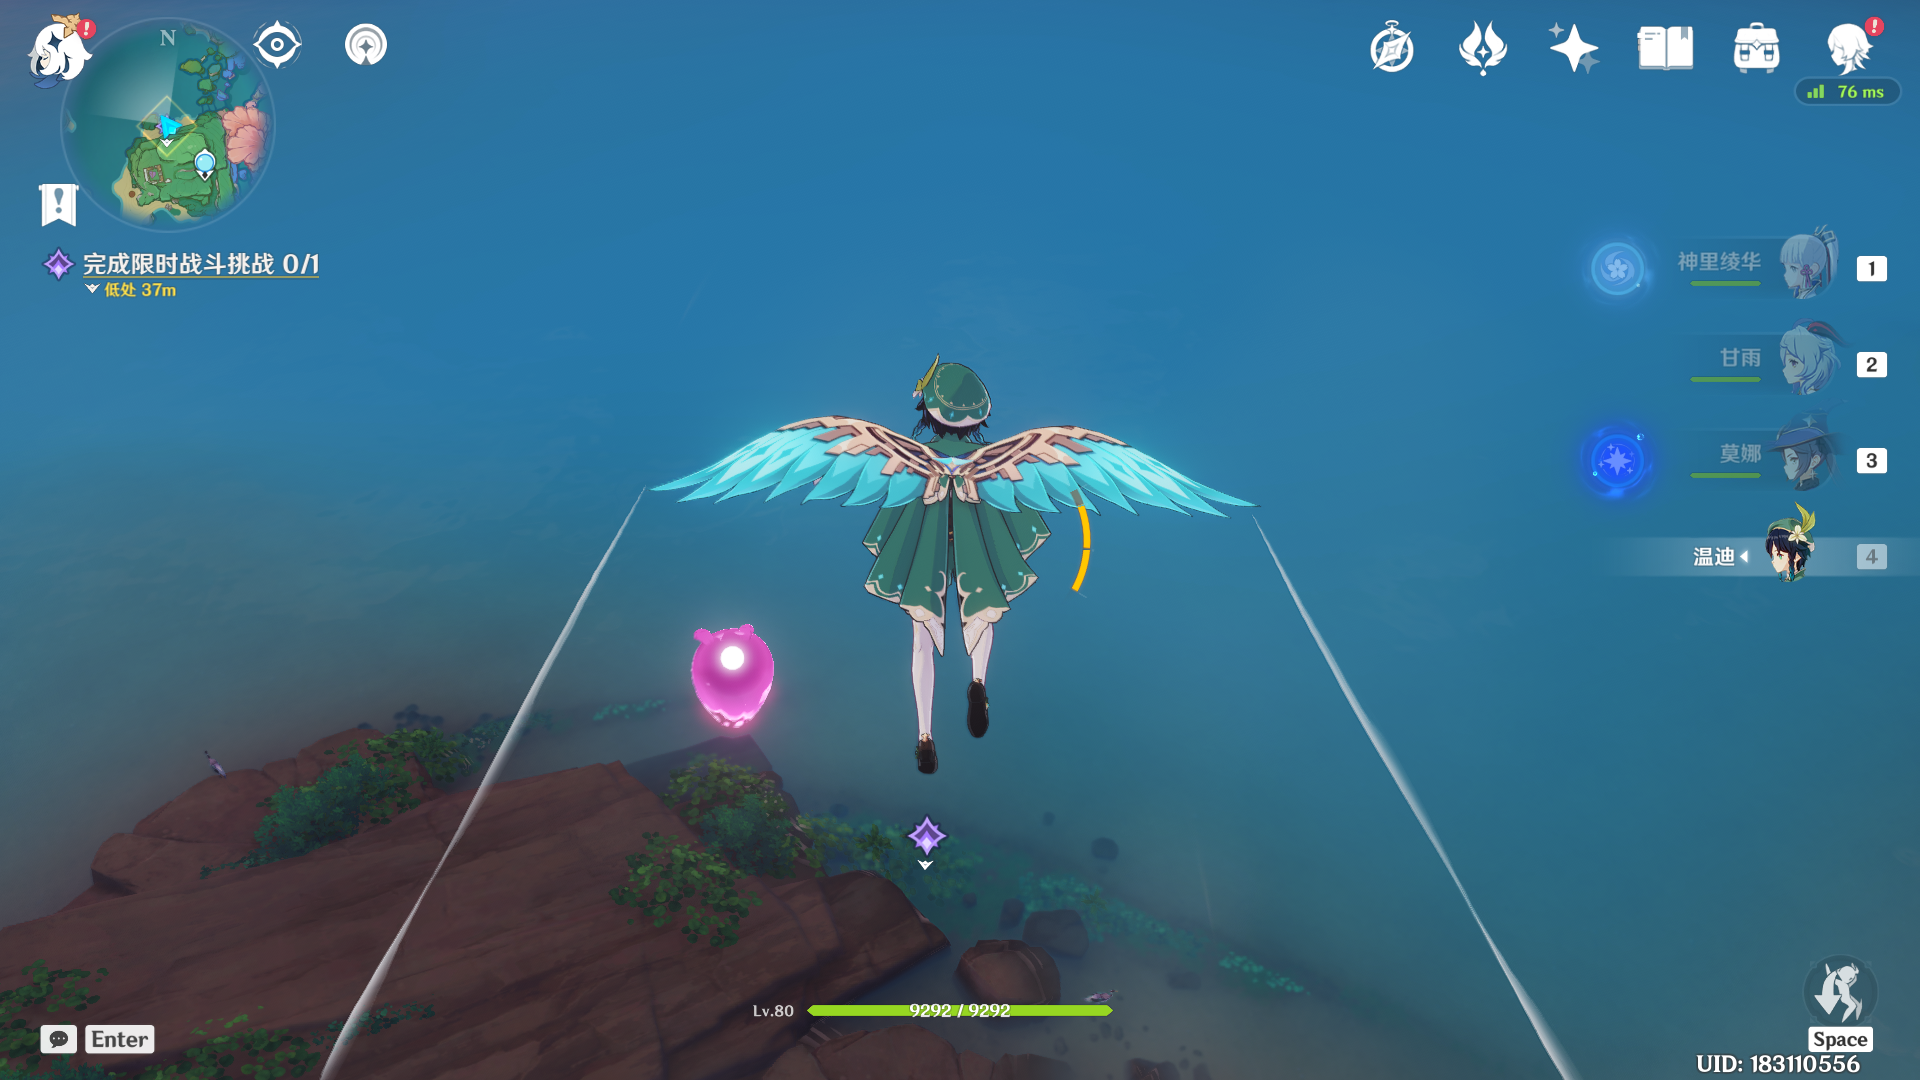character: (757, 338, 1120, 837)
